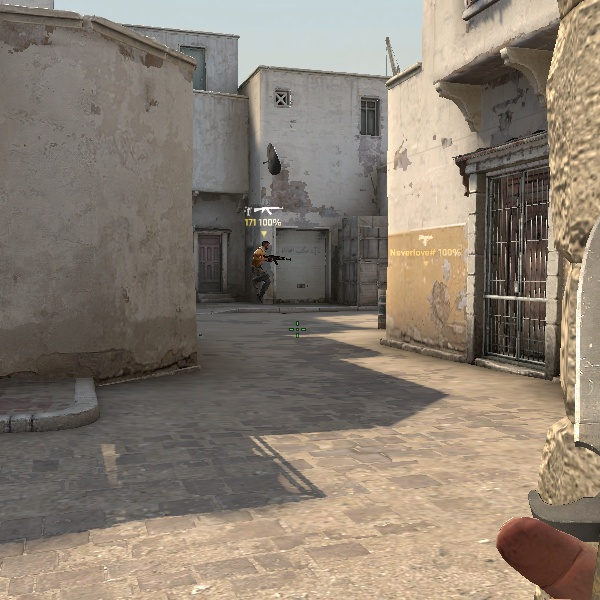t_body: (249, 240, 283, 303)
t_head: (261, 240, 270, 253)
